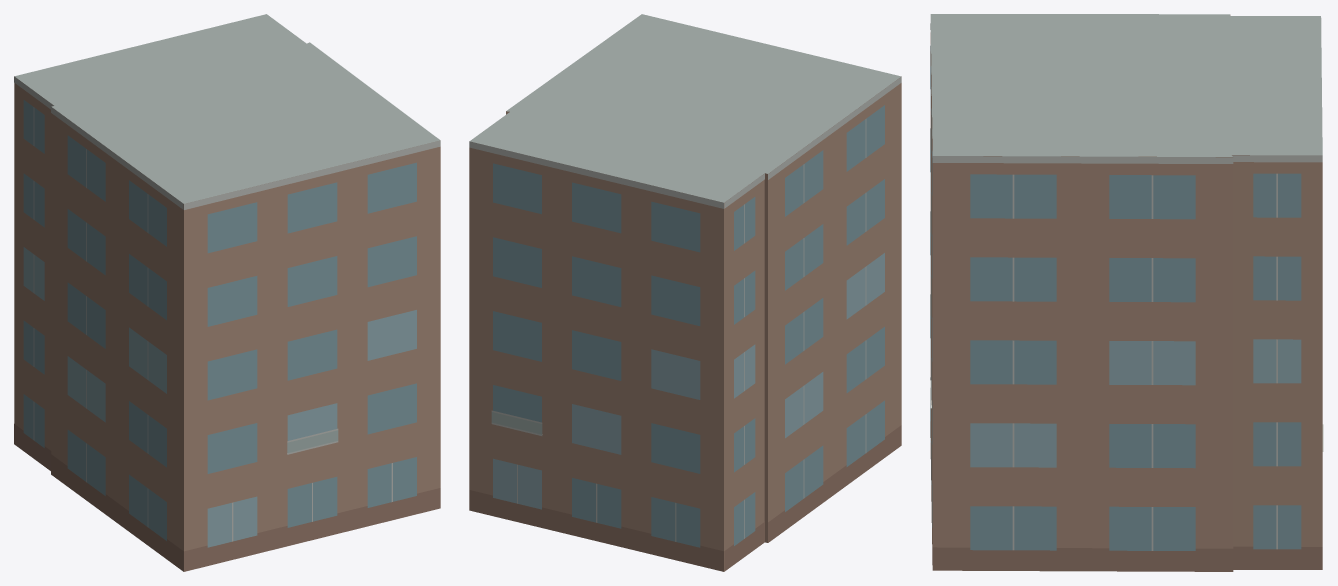
File: survey-upis-32836150.glb
3 views of the same model, side by side, from view 1: azimuth 30°, elevation 25°; view 2: azimuth 150°, elevation 25°; view 3: azimuth 270°, elevation 25° (orthographic). The views are drawn at different scales.
Parts seen in each view (by area): view 1: survey-upis-32836150.tmp; view 2: survey-upis-32836150.tmp; view 3: survey-upis-32836150.tmp.
Part boxes in pixels (x1,y1,x2,y2): survey-upis-32836150.tmp: (14,14,440,571); survey-upis-32836150.tmp: (469,14,901,571); survey-upis-32836150.tmp: (930,14,1323,571).
Bounding box in the file's own units: 10.67 × 14.4 × 12.39.
